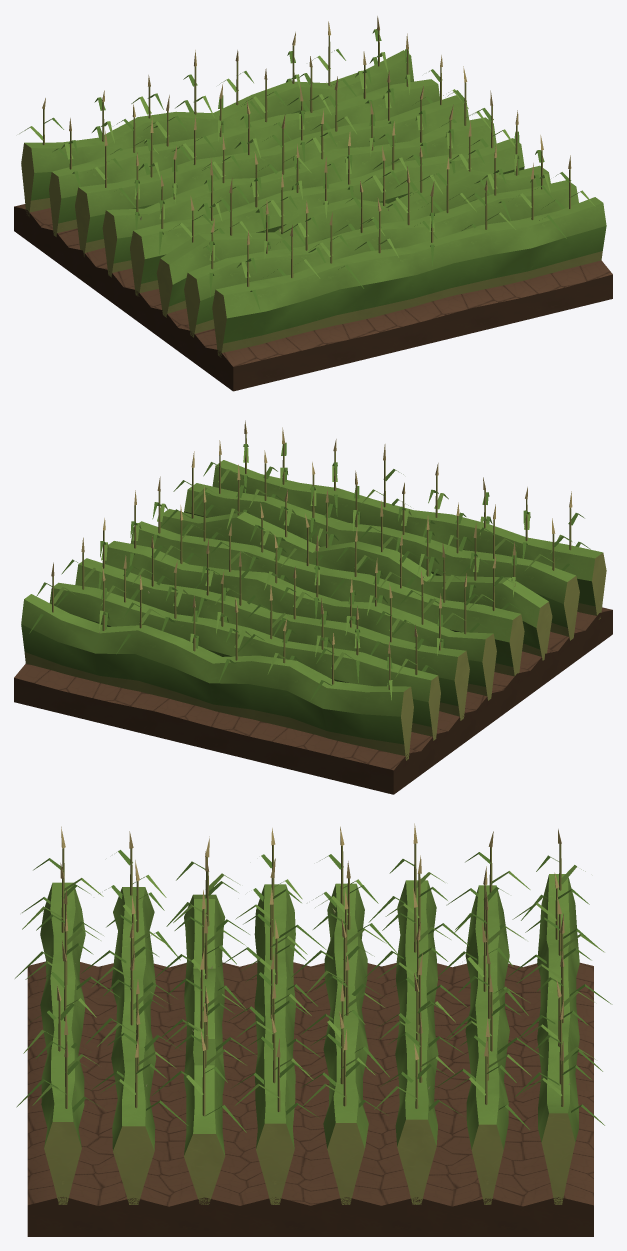
The model's file is field_corn.glb.
3 renders of one model, top to bottom at view 1: azimuth 30°, elevation 25°; view 2: azimuth 150°, elevation 25°; view 3: azimuth 270°, elevation 25°, orthographic. The views are drawn at different scales.
Visible parts, largest first — view 1: field_corn; view 2: field_corn; view 3: field_corn.
Part boxes in pixels (x1,y1,x2,y2): field_corn: [14, 16, 612, 391]; field_corn: [14, 420, 612, 794]; field_corn: [15, 823, 612, 1236].
Bounding box in the file's own units: 8 × 3.01 × 8.46.
Materials: 7 (7 with a texture image).
